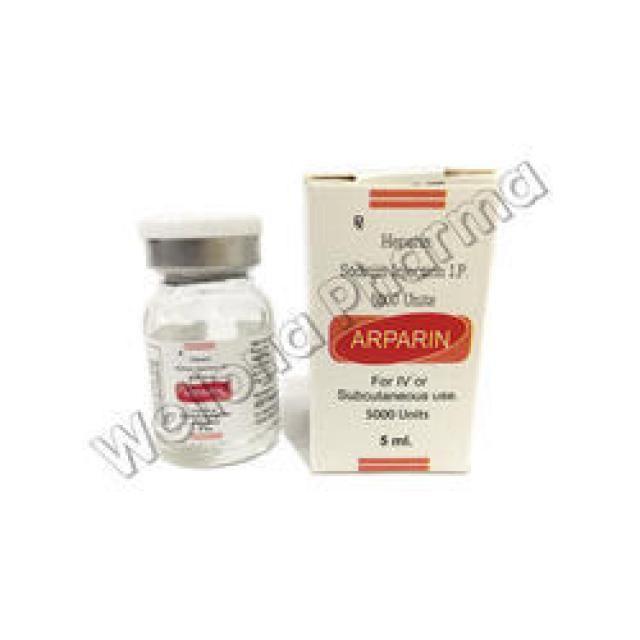B3: (123, 187, 307, 504)
